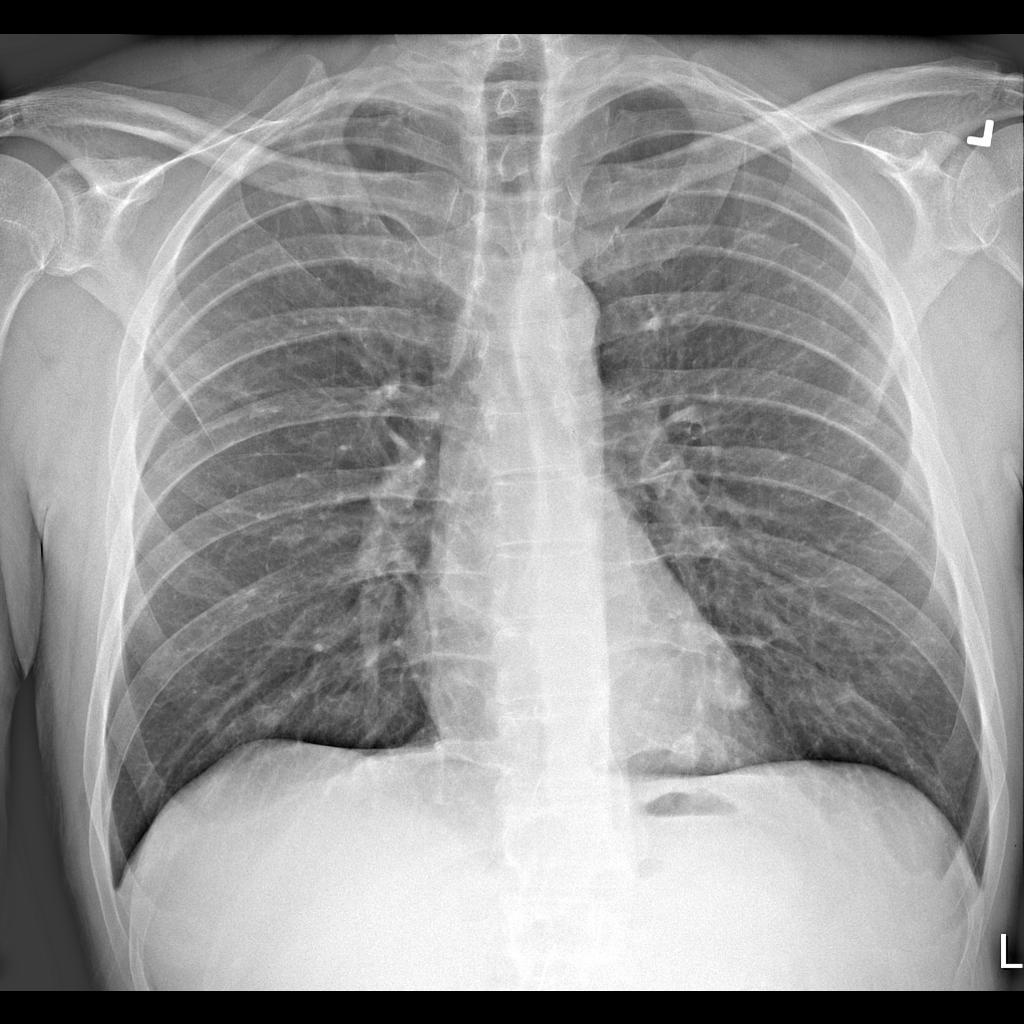Nodule: (663, 729, 705, 776), (272, 515, 314, 556)
